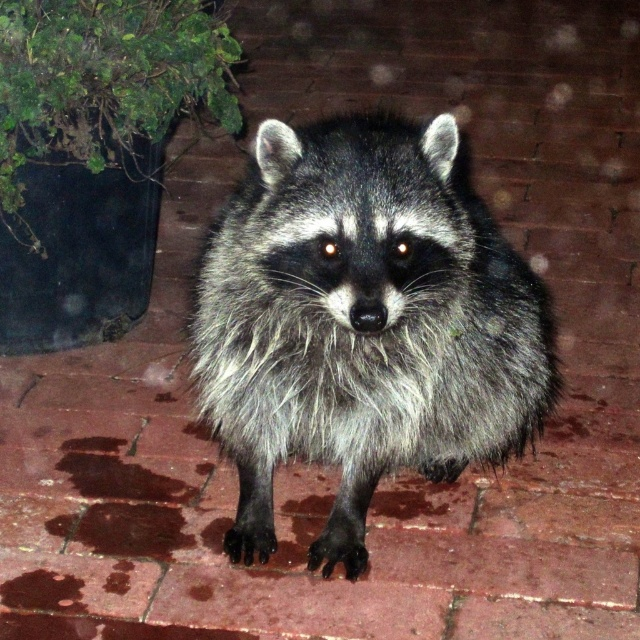Raccoon: (184, 113, 564, 580)
